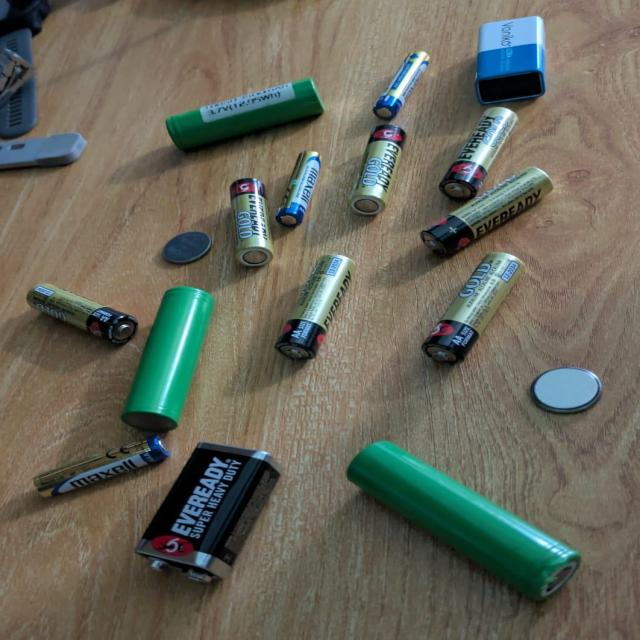9V: (135, 442, 282, 582), (474, 15, 544, 105)
AA: (421, 166, 548, 260), (422, 253, 525, 362), (276, 254, 358, 358), (438, 107, 518, 202), (25, 284, 137, 345), (348, 124, 407, 215), (228, 178, 274, 265)
AAA: (33, 435, 171, 498), (372, 49, 430, 120), (275, 151, 322, 228)
COIN: (527, 366, 602, 415), (159, 230, 213, 265)
